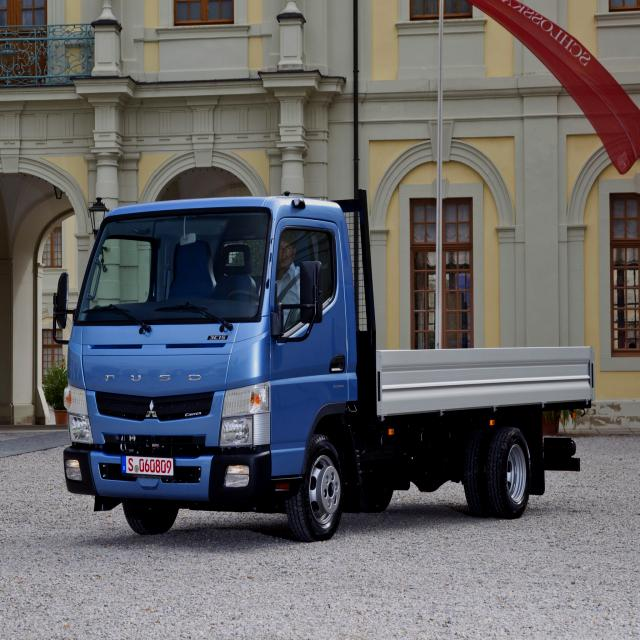truck: (50, 187, 595, 536)
